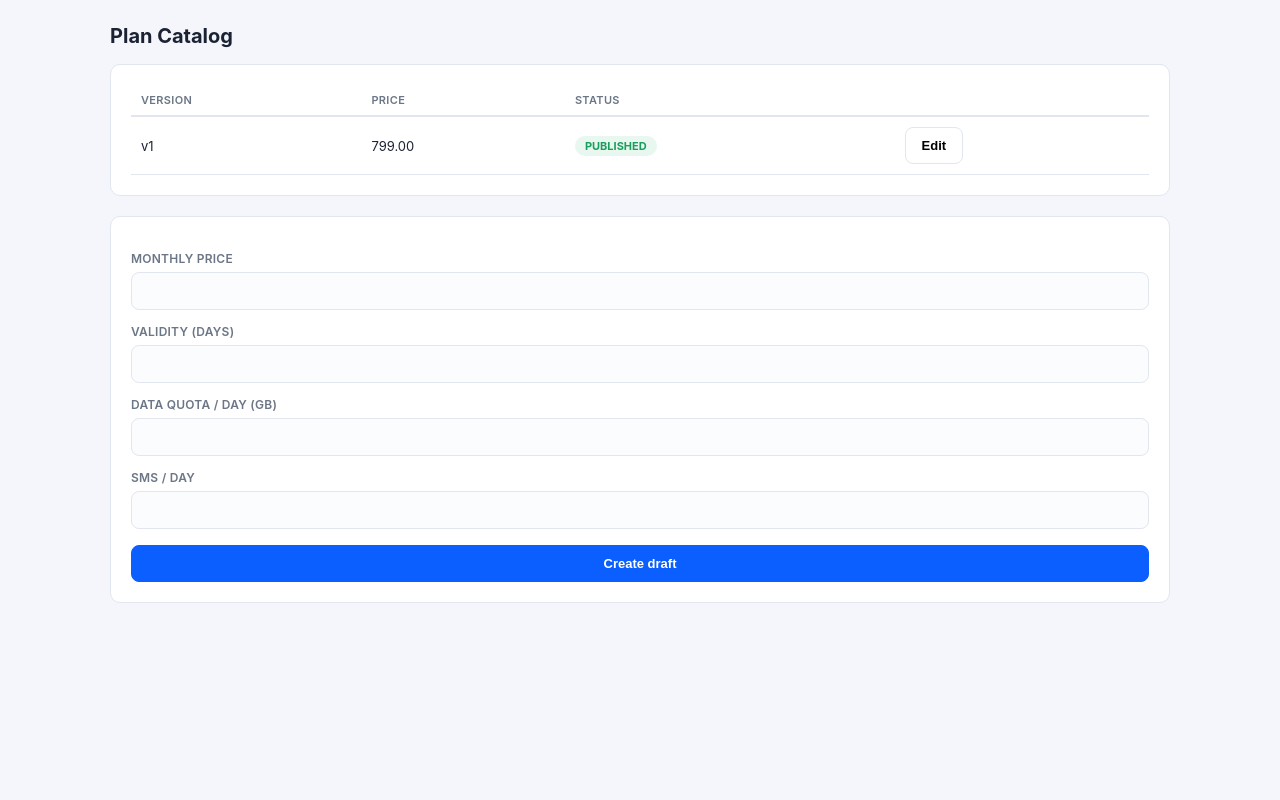
Test: AdminPlanCatalogPage › clicking Edit on a published version shows a blocked, inline message (AC-3)
The image size is (1280, 800).
Click the button "Edit" at point(934, 146), box [905,127,963,164]
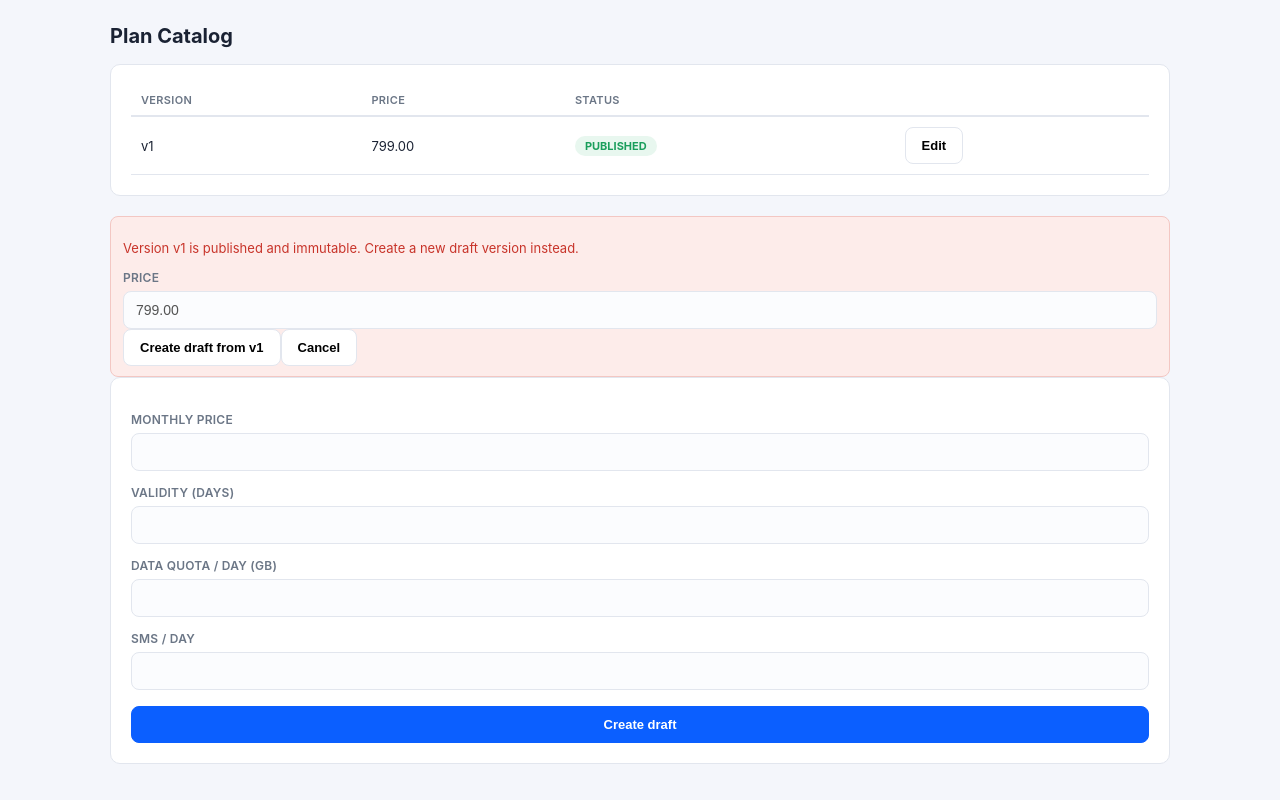
Expected: the message with test id "edit-locked-message" shows "published and immutable", [186,240,579,256]
Expected: the message with test id "edit-locked-message" shows "Create a new draft version instead", [186,240,579,256]
Expected: the field labelled "Price" is disabled, [123,291,1157,329]
